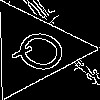Q: (9, 24, 79, 82)
